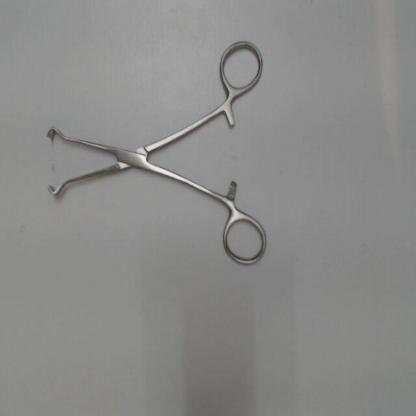Babcock Tissue Forceps: (38, 36, 274, 274)
